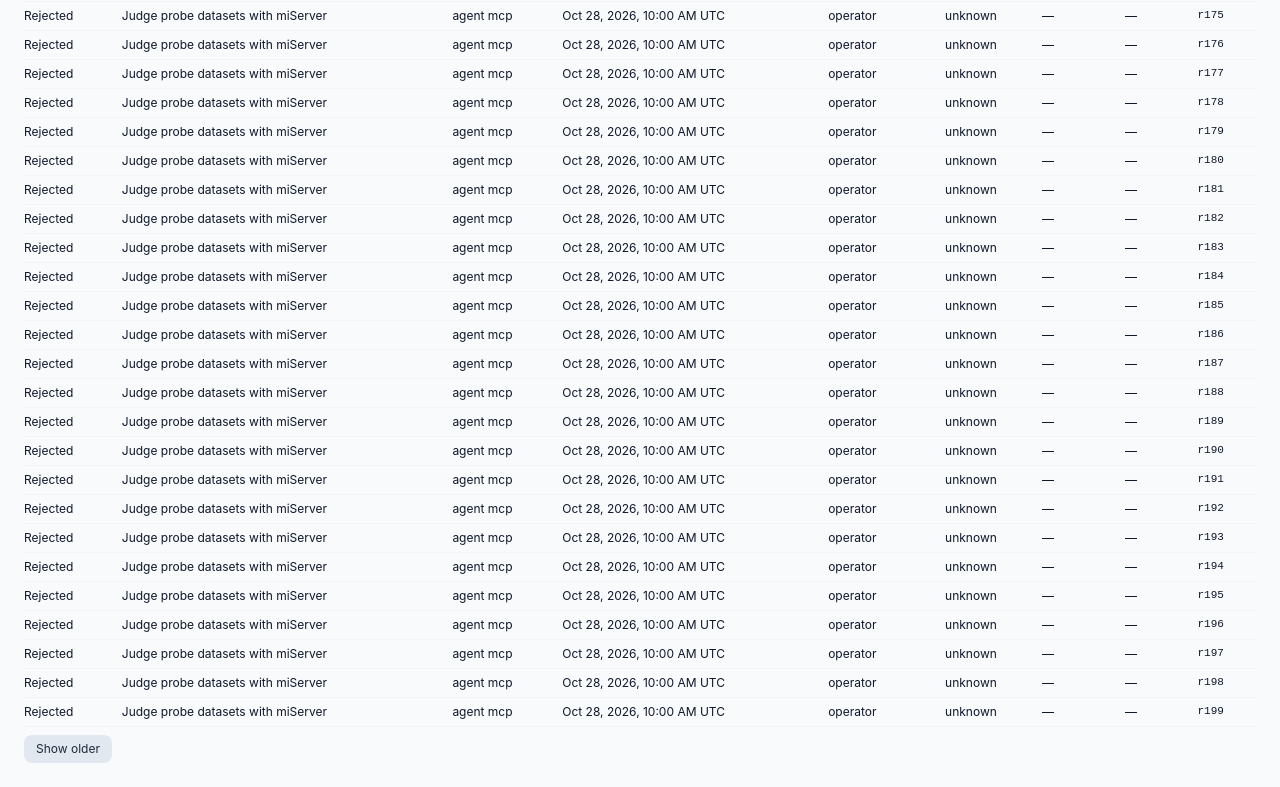
Test: ApprovalsPanel › Show older loads the next 200
(page scrolled)
Click the button "Show older".
click(68, 749)  # box [24,735,112,763]
(page scrolled)
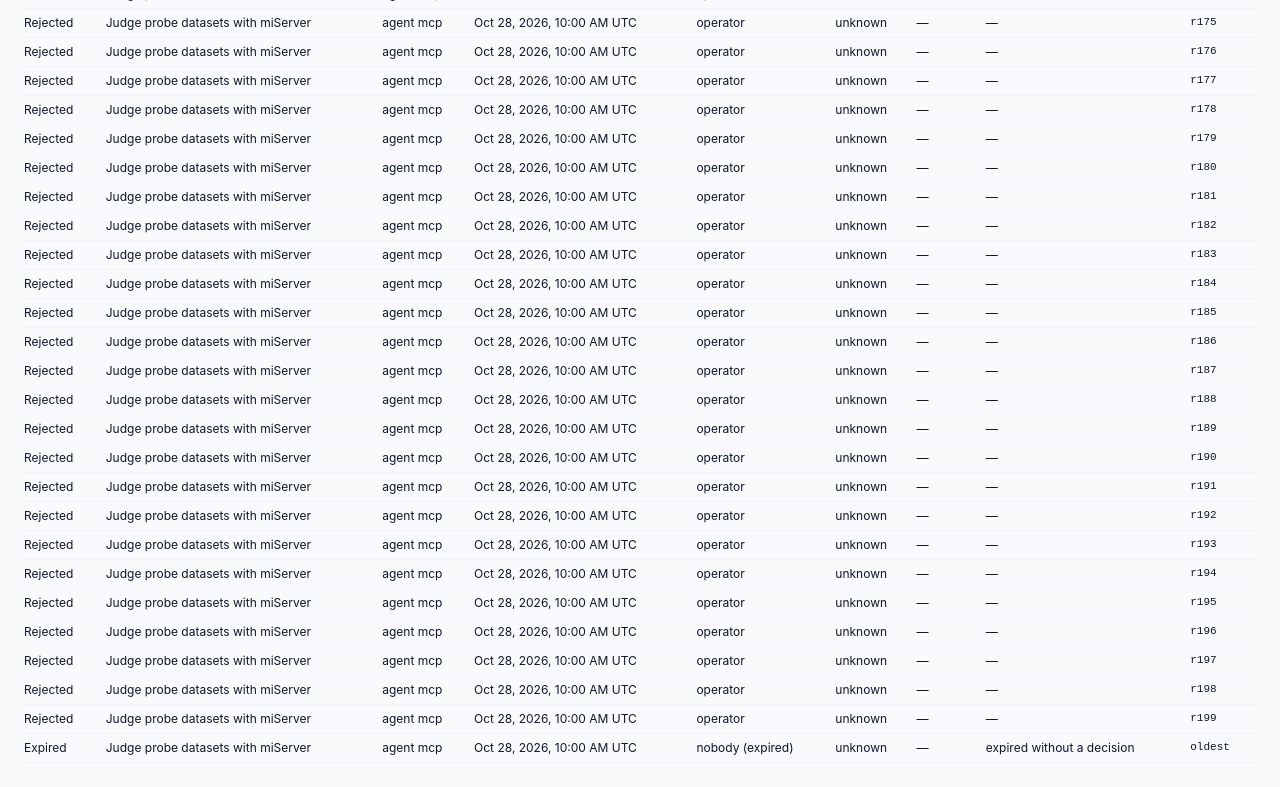
Expected: the button "Show older" is gone
